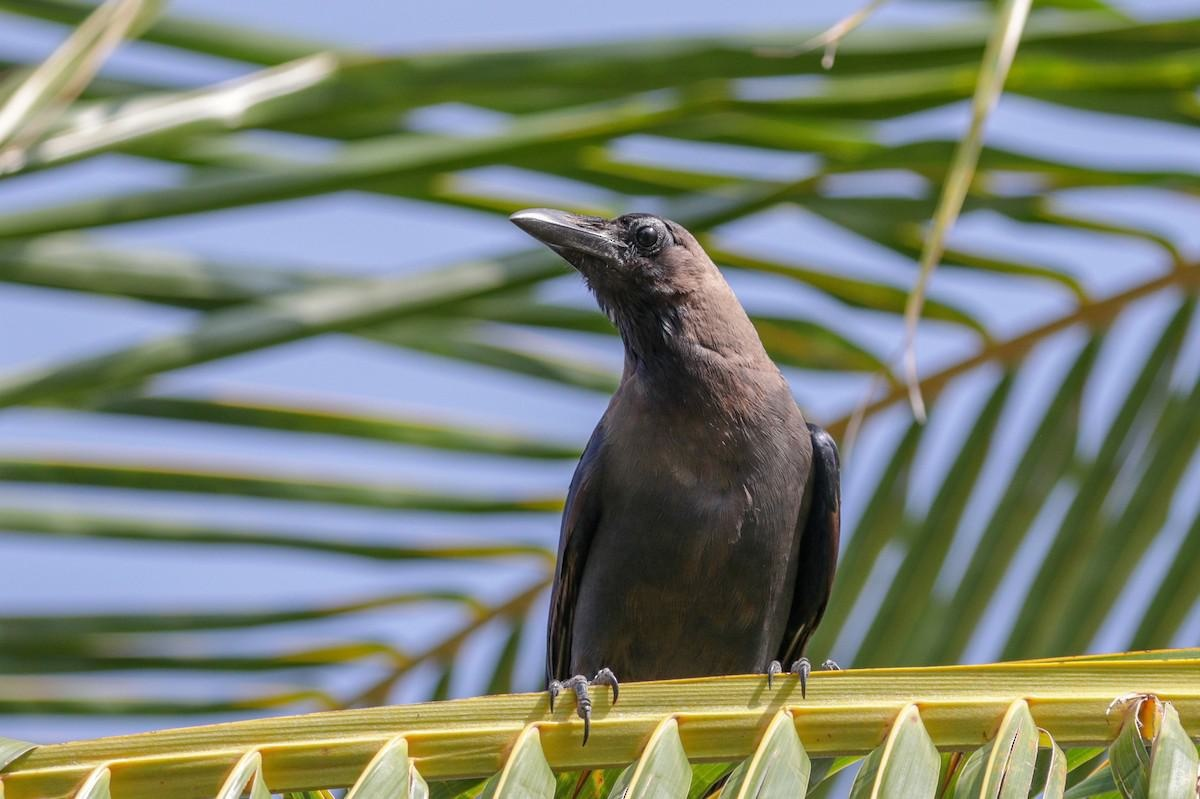crow: (501, 184, 855, 716)
